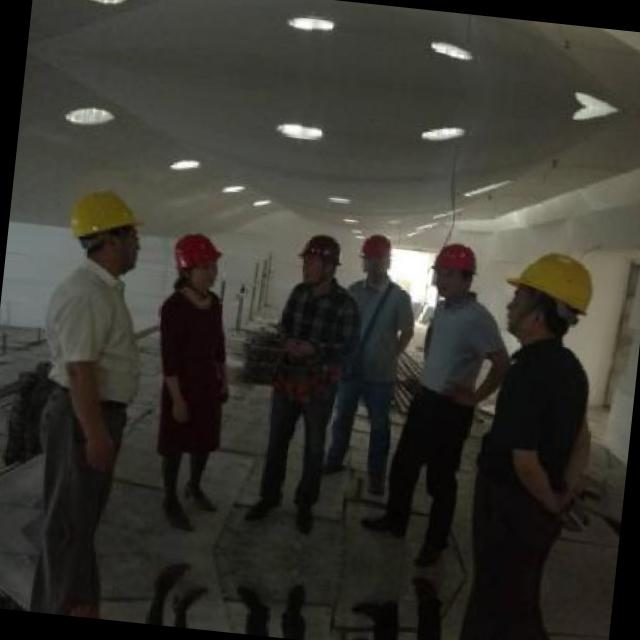helmet: (490, 242, 601, 348), (64, 184, 152, 282), (164, 228, 229, 297), (421, 237, 483, 304), (288, 226, 346, 290), (354, 232, 396, 282)
